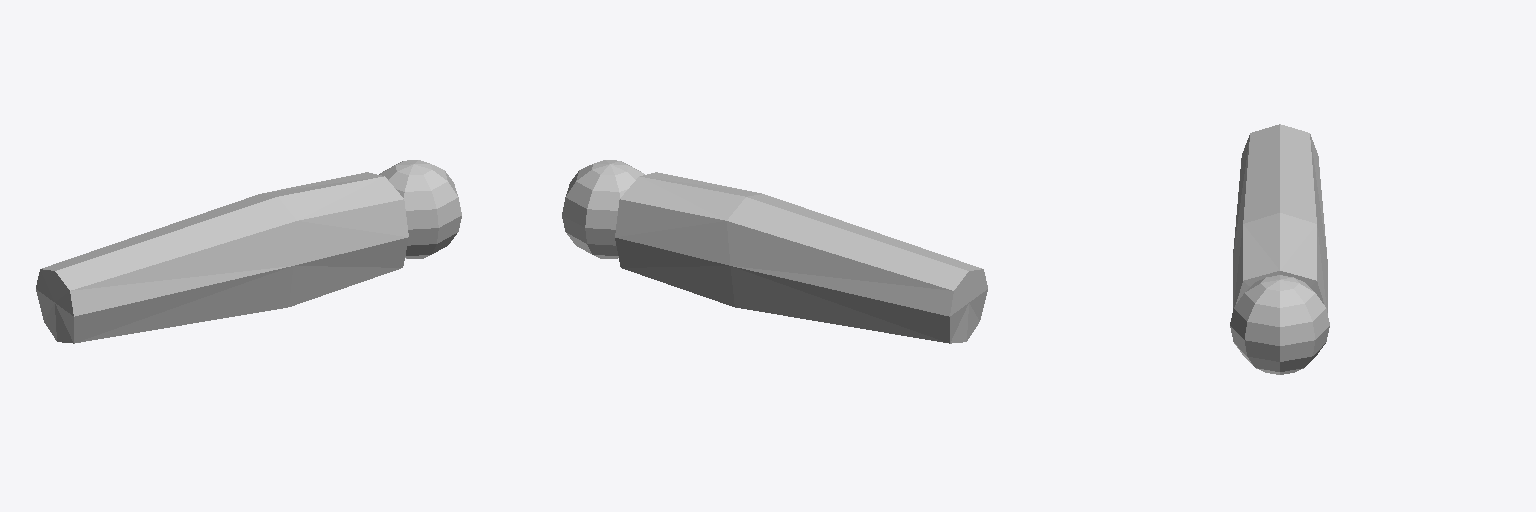
The model's file is right_lower_arm.obj.
3 renders of one model, left to right at view 1: azimuth 30°, elevation 25°; view 2: azimuth 150°, elevation 25°; view 3: azimuth 270°, elevation 25°, orthographic.
Visible parts, largest first — view 1: Right_Lower_Arm.001_Cube.013; view 2: Right_Lower_Arm.001_Cube.013; view 3: Right_Lower_Arm.001_Cube.013.
Boxes of the visible parts, x1=… form: Right_Lower_Arm.001_Cube.013: x1=36, y1=160, x2=461, y2=343; Right_Lower_Arm.001_Cube.013: x1=562, y1=160, x2=987, y2=343; Right_Lower_Arm.001_Cube.013: x1=1230, y1=124, x2=1329, y2=374.
Size of the model in its own units: 0.7023 by 0.18 by 0.1516.